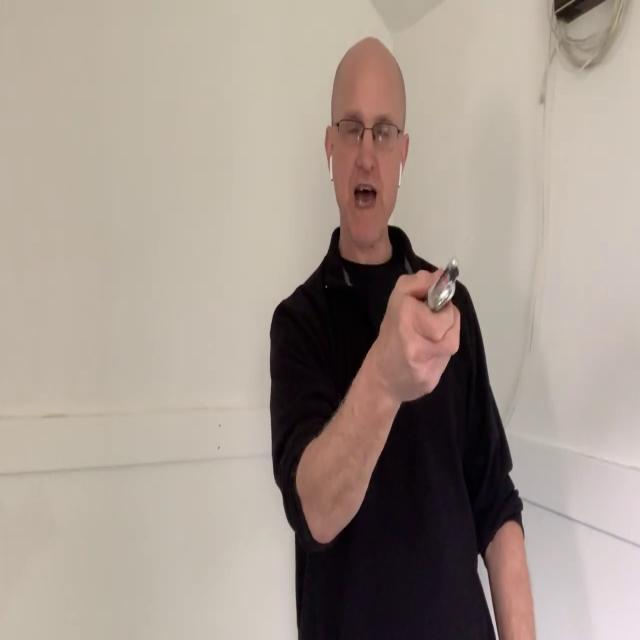Knife_Handle: (387, 257, 460, 394)
